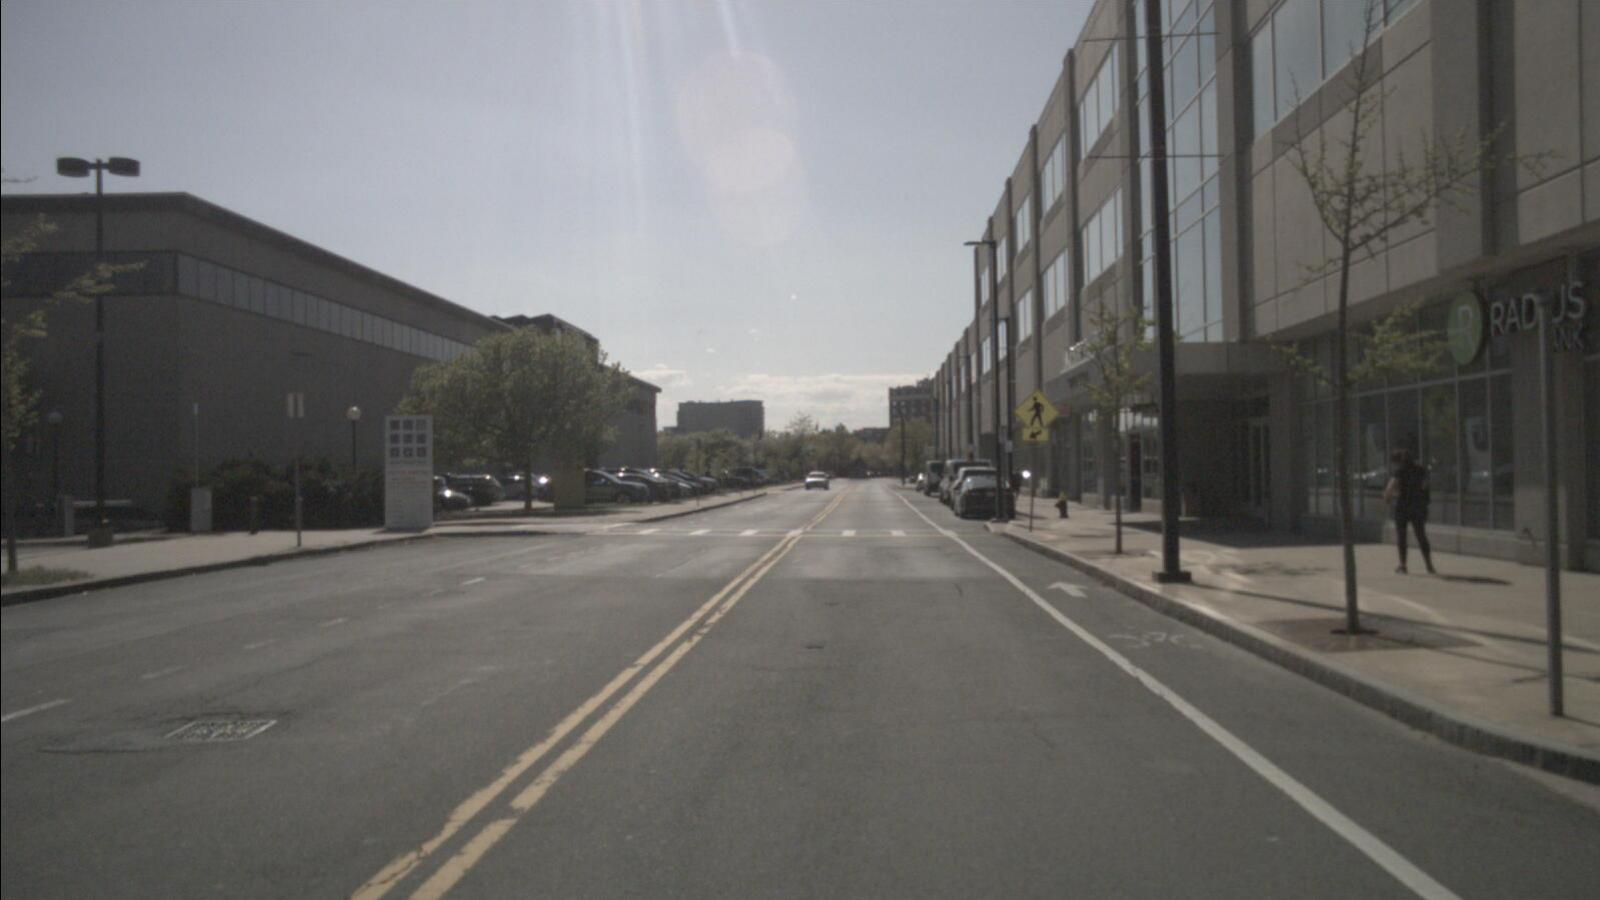human.pedestrian.adult-pedestrian.moving: (1386, 448, 1437, 576), (1008, 466, 1023, 504)
